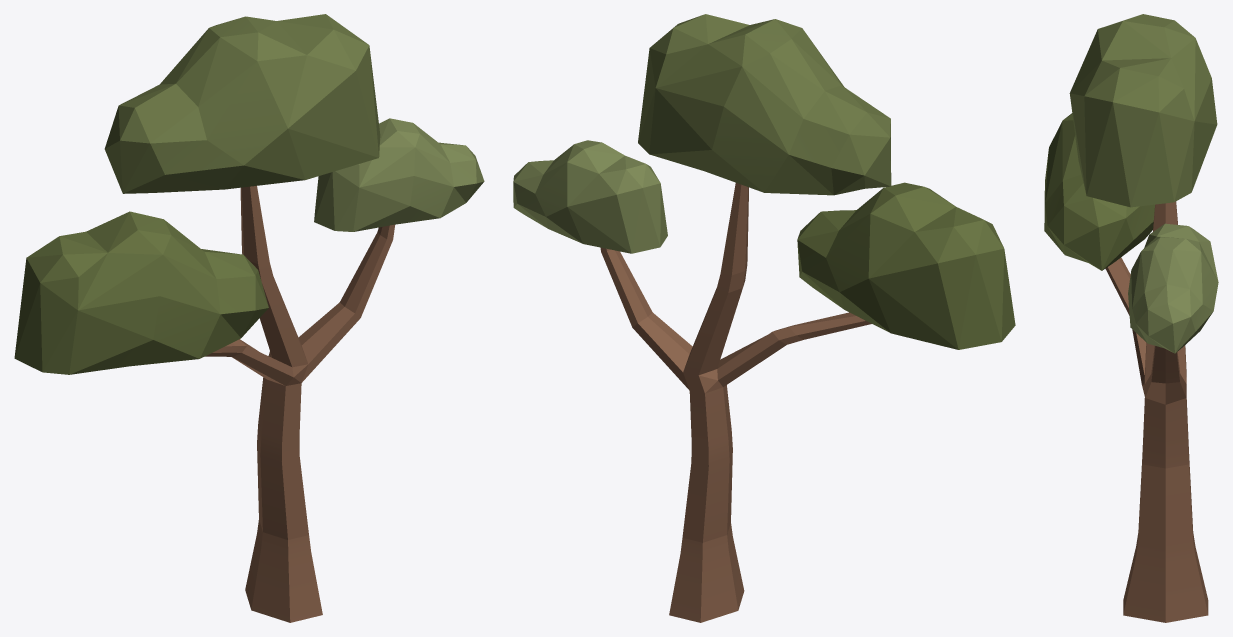
File: deciduous_tree_4.fbx
3 views of the same model, side by side, from view 1: azimuth 30°, elevation 25°; view 2: azimuth 150°, elevation 25°; view 3: azimuth 270°, elevation 25° (orthographic). The views are drawn at different scales.
Parts seen in each view (by area): view 1: deciduous_tree_4; view 2: deciduous_tree_4; view 3: deciduous_tree_4.
Boxes of the visible parts, x1,y1,x2,y2 form: deciduous_tree_4: [14, 14, 484, 622]; deciduous_tree_4: [513, 14, 1015, 622]; deciduous_tree_4: [1044, 14, 1218, 622].
Size of the model in its own units: 627 by 744 by 208.
